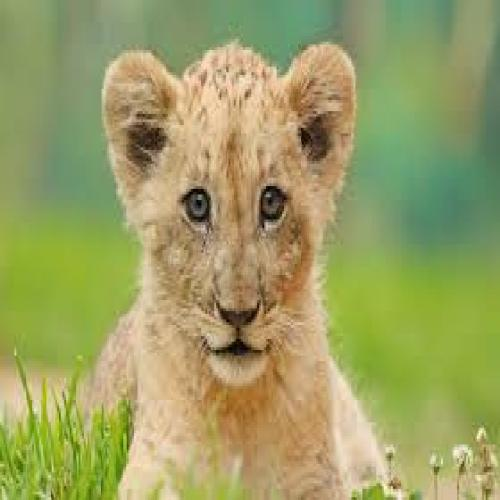lion-endangered: (94, 46, 390, 497)
